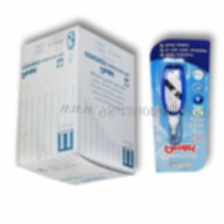book: (14, 21, 139, 188), (148, 36, 212, 176)
correction_fluid: (160, 62, 187, 147)
